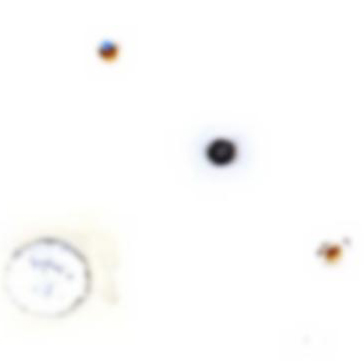abnormal: (2, 225, 119, 337)
cancer: (188, 112, 260, 182)
normal: (301, 217, 358, 281), (79, 28, 137, 78)
